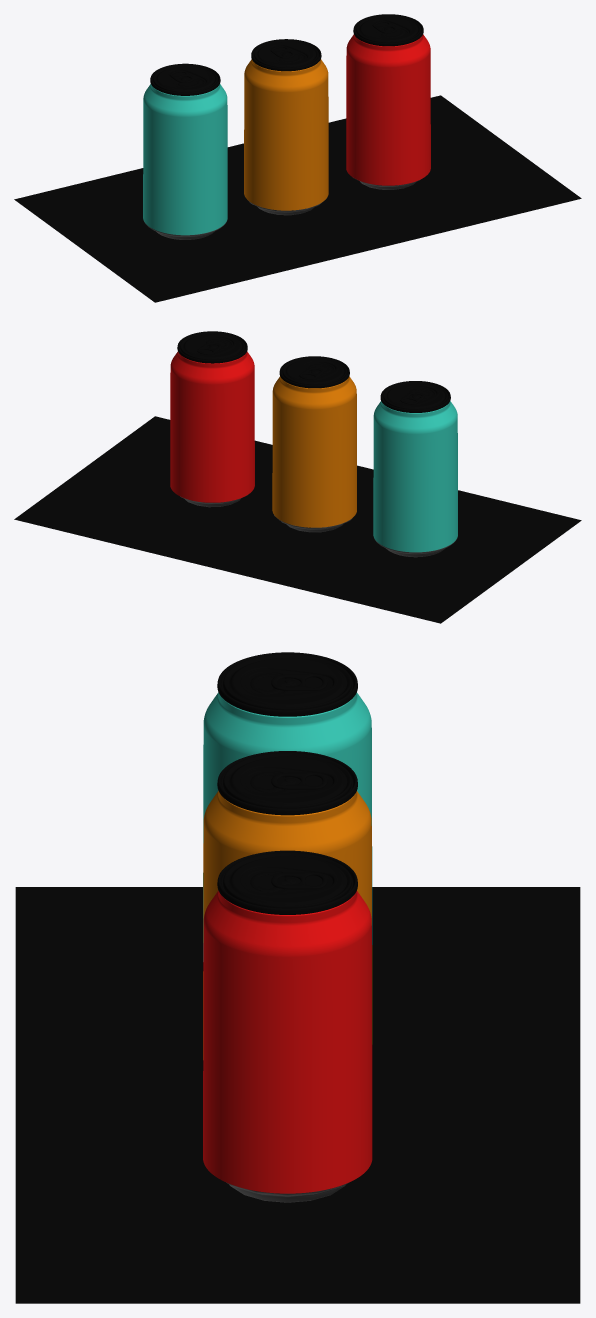
Rendered from soda can.FBX.
3 views of the same model, one above another, from view 1: azimuth 30°, elevation 25°; view 2: azimuth 150°, elevation 25°; view 3: azimuth 270°, elevation 25° (orthographic). The views are drawn at different scales.
Parts seen in each view (by area): view 1: Plane004, body002, body001, body, cap003, cap002, cap001; view 2: Plane004, body, body001, body002, cap003, cap002, cap001; view 3: Plane004, body002, body001, body, cap001, cap002, cap003, opener002, opener003, opener1, BASE002.
Boxes of the visible parts, x1,y1,x2,y2 form: Plane004: (14, 95, 581, 302); body002: (346, 34, 430, 185); body001: (244, 59, 328, 210); body: (143, 84, 227, 235); cap003: (353, 14, 423, 46); cap002: (251, 39, 321, 71); cap001: (150, 63, 220, 95); Plane004: (14, 416, 581, 623); body: (373, 401, 457, 552); body001: (272, 376, 356, 527); body002: (170, 351, 254, 502); cap003: (177, 331, 247, 363); cap002: (279, 356, 349, 388); cap001: (380, 381, 450, 412); Plane004: (15, 887, 580, 1303); body002: (203, 891, 372, 1193); body001: (203, 791, 372, 1059); body: (203, 692, 372, 961); cap001: (217, 652, 357, 716); cap002: (217, 751, 357, 815); cap003: (217, 850, 357, 914); opener002: (250, 772, 327, 792); opener003: (250, 872, 327, 892); opener1: (250, 673, 327, 693); BASE002: (226, 1182, 347, 1202).
Size of the model in its own units: 34.05 by 11.5 by 19.5.
